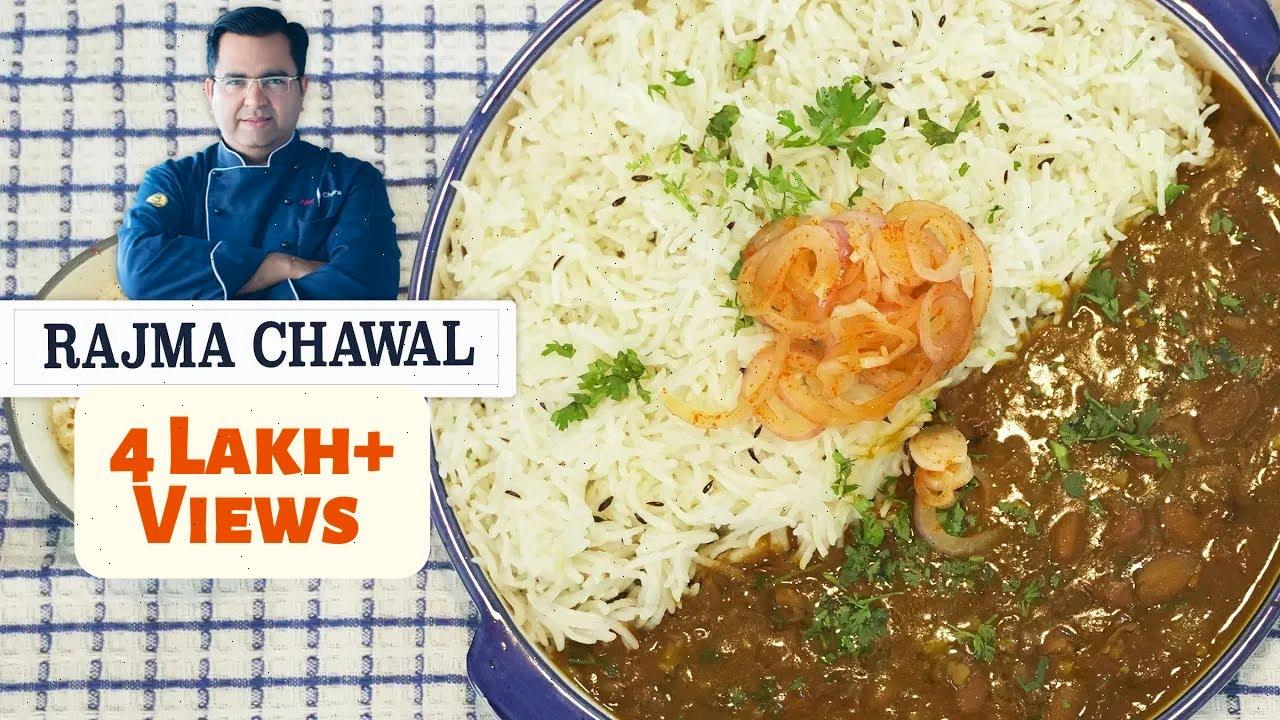rajma: (952, 382, 1280, 716)
rice: (540, 2, 974, 376)
